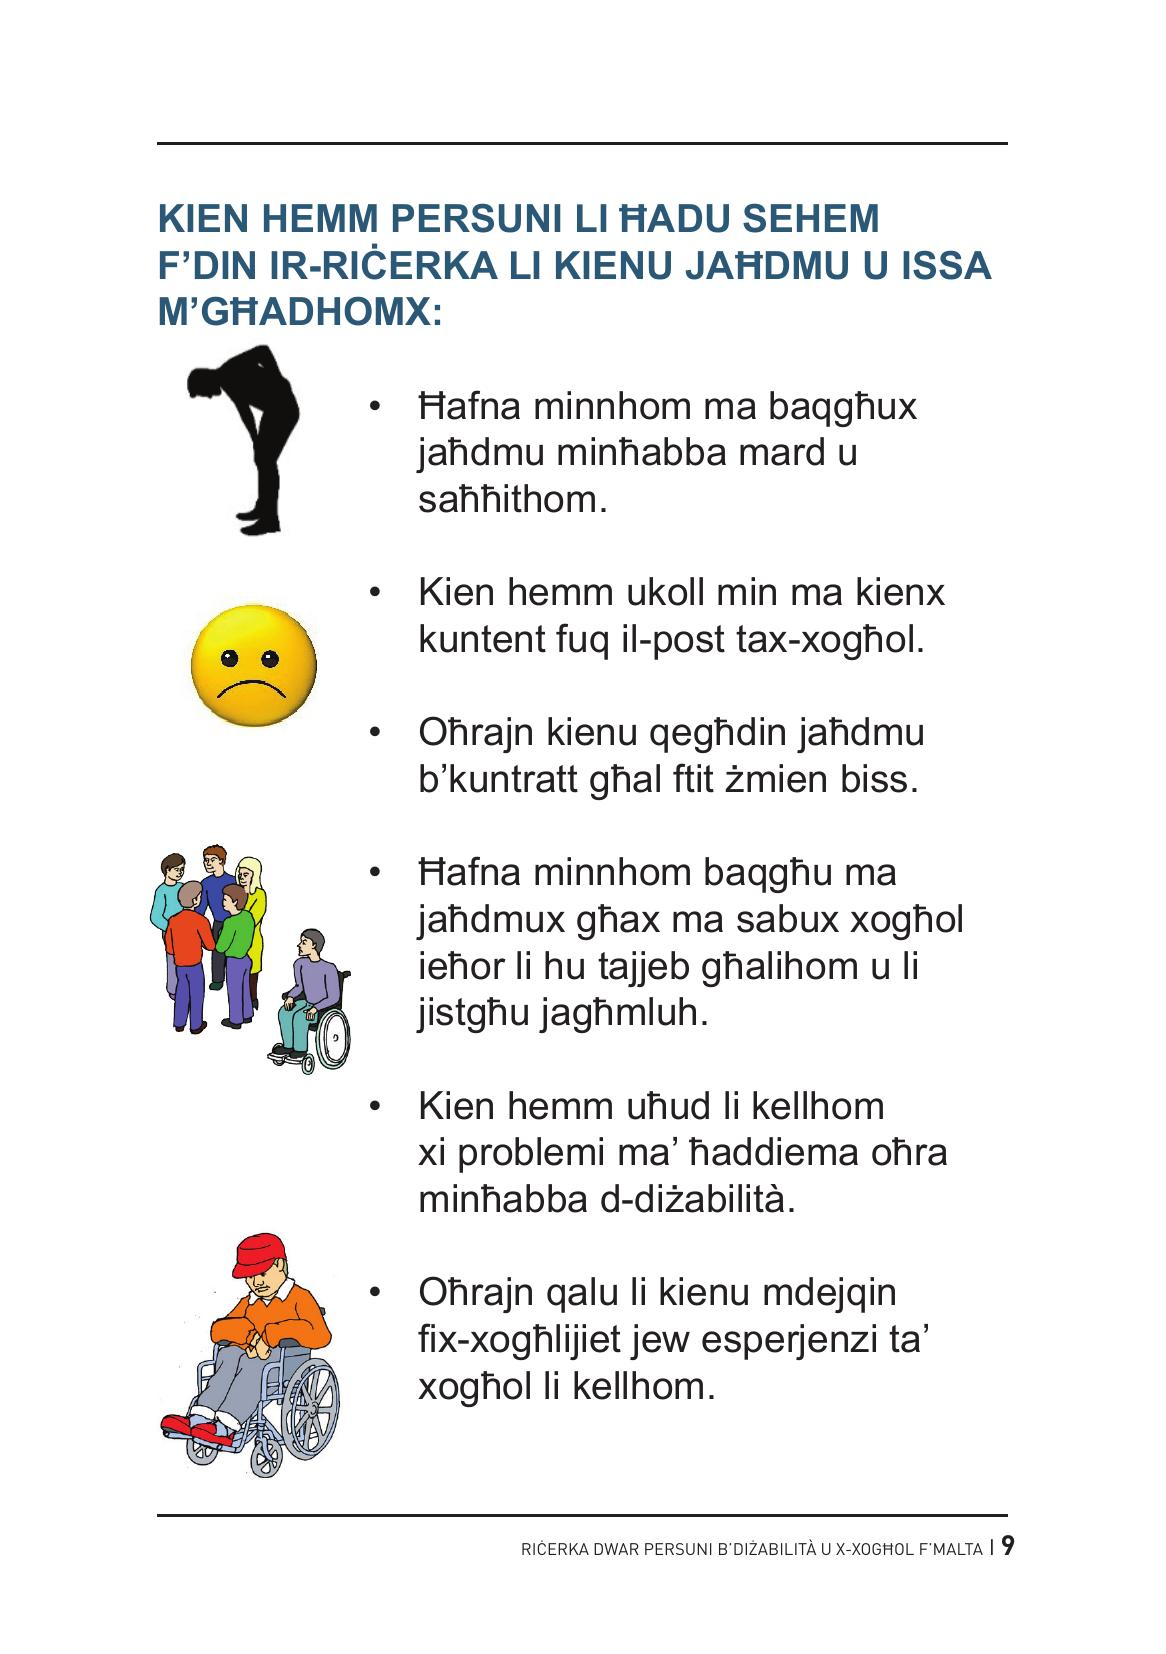text: (351, 368, 1025, 1446), (132, 189, 1003, 339)
